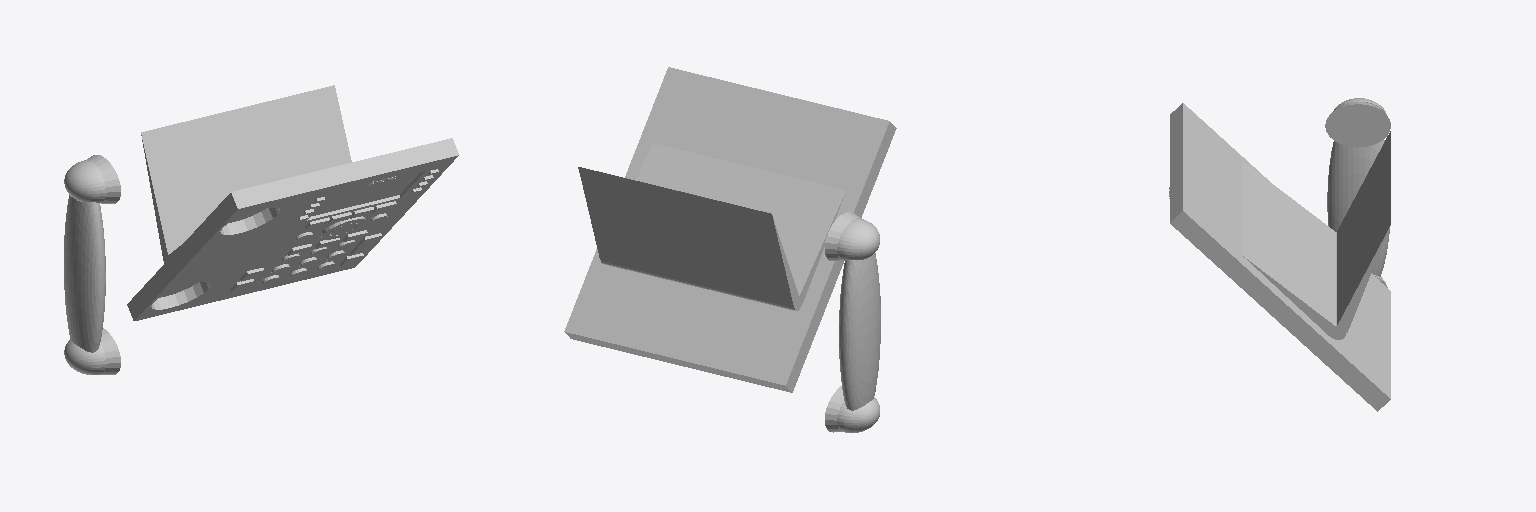
The model's file is avaya.obj.
The picture shows the model from 3 angles: view 1: azimuth 30°, elevation 25°; view 2: azimuth 150°, elevation 25°; view 3: azimuth 270°, elevation 25°; orthographic projection.
Visible parts, largest first — view 1: obj_0; view 2: obj_0; view 3: obj_0.
Part boxes in pixels (left/top/right/bottom): obj_0: left=64, top=85, right=458, bottom=374; obj_0: left=564, top=67, right=896, bottom=432; obj_0: left=1169, top=98, right=1390, bottom=411.
Bounding box in the file's own units: 107 × 81 × 69.53.